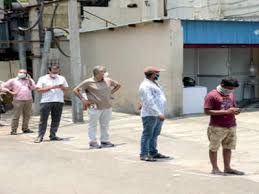Social Distance: (1, 63, 249, 178)
